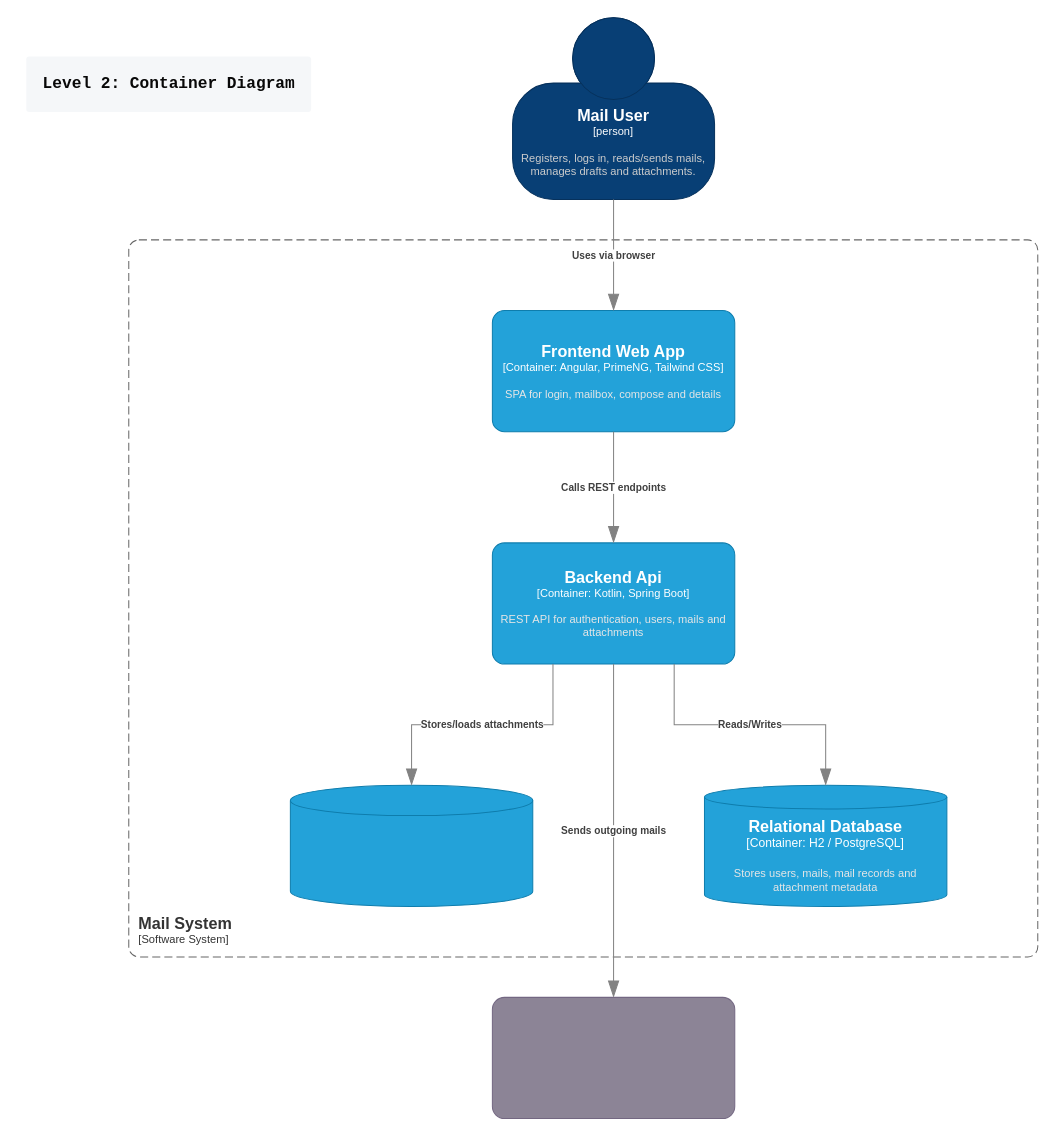
The diagram is 1055 pixels wide and 1136 high, and some of its shapes have lost their labels. Each missing label, with the centre of its shape:
File Storage [Container: Local filesystem] Stores uploaded attachment files: point (411, 845)
SMTP Provider [External Software System] External mail service: point (613, 1057)
